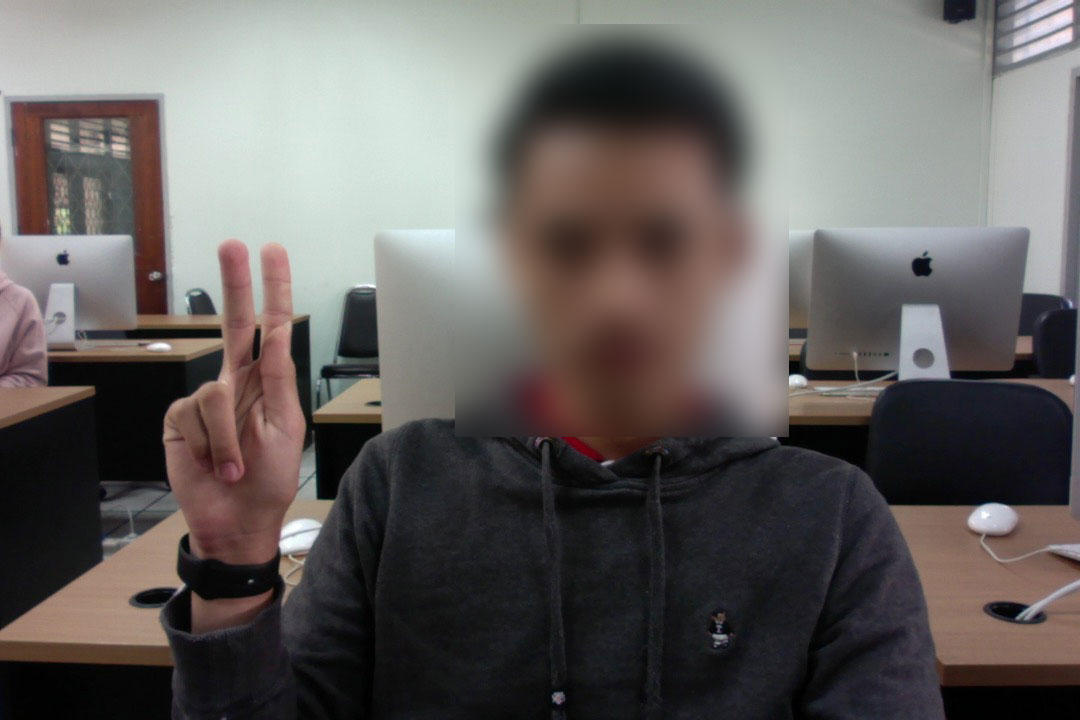ko: (129, 218, 324, 589)
